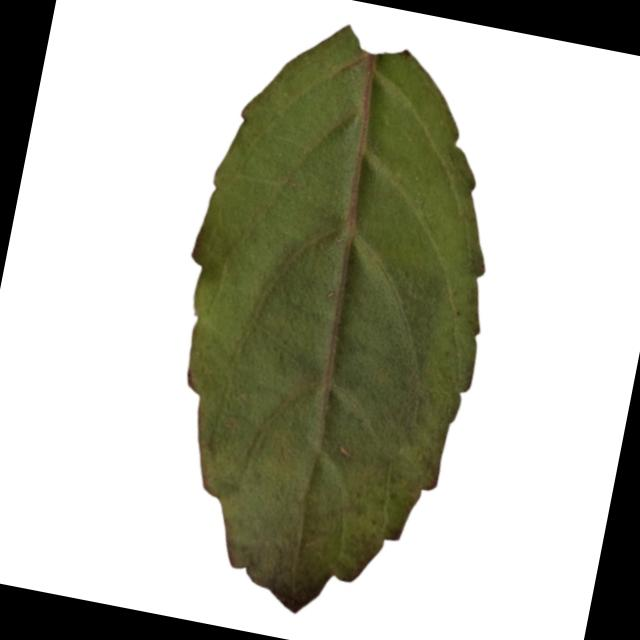tulsi: (124, 0, 539, 640)
